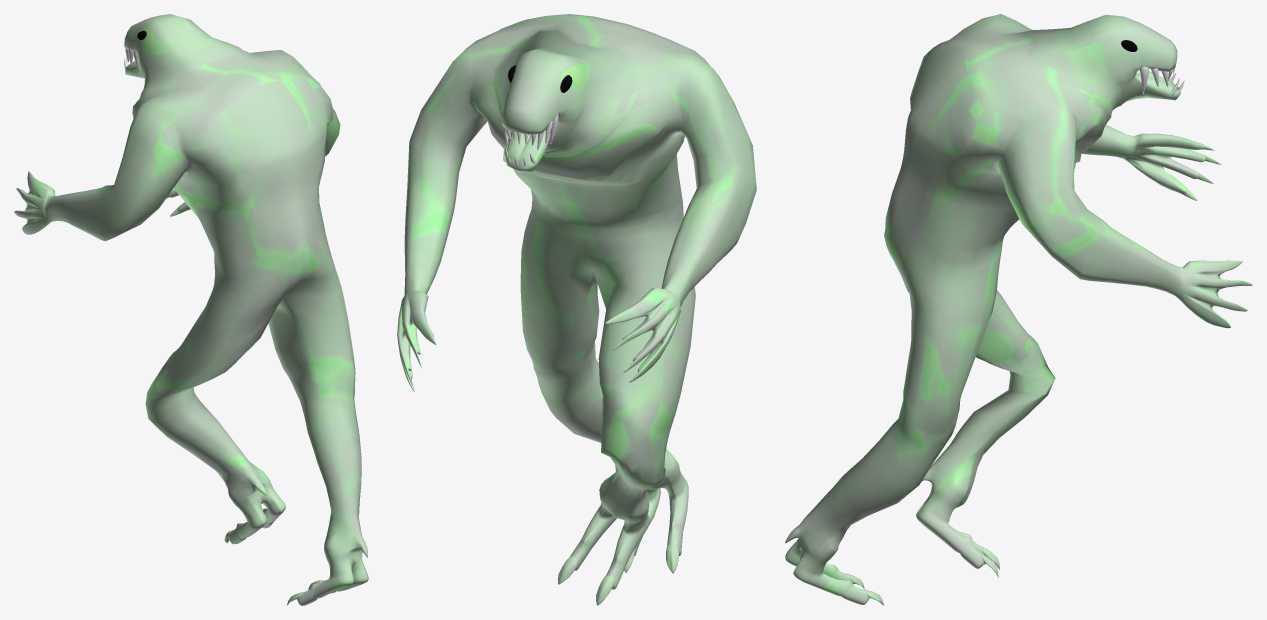
File: Berserkercorrer.0043.obj
The picture shows the model from 3 angles, left to right: view 1: azimuth 30°, elevation 25°; view 2: azimuth 150°, elevation 25°; view 3: azimuth 270°, elevation 25°; orthographic projection. The views are drawn at different scales.
Visible parts, largest first — view 1: polySurface27; view 2: polySurface27; view 3: polySurface27.
Boxes of the visible parts, box(x1,y1,x2,y2) form: polySurface27: box(14, 14, 368, 605); polySurface27: box(397, 14, 756, 605); polySurface27: box(785, 14, 1252, 605).
Size of the model in its own units: 11.66 by 22.04 by 16.5.
Materials: 1 (1 with a texture image).
